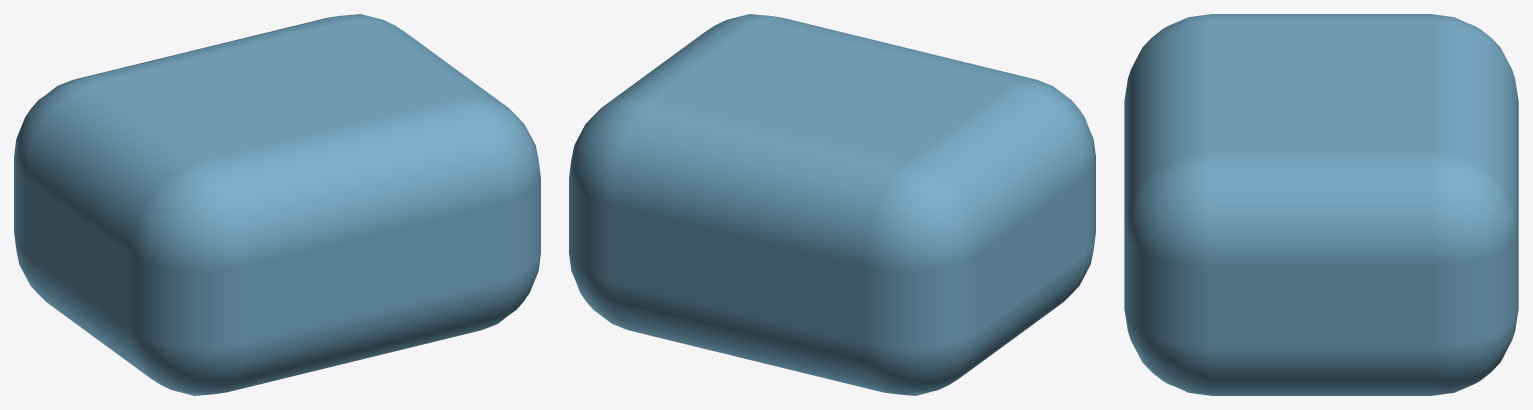
Rendered from sky_plane.glb.
3 renders of one model, left to right at view 1: azimuth 30°, elevation 25°; view 2: azimuth 150°, elevation 25°; view 3: azimuth 270°, elevation 25°, orthographic. The views are drawn at different scales.
Visible parts, largest first — view 1: sky_plane_glass; view 2: sky_plane_glass; view 3: sky_plane_glass.
Boxes of the visible parts, <box> form: sky_plane_glass: <box>14,14,540,395</box>; sky_plane_glass: <box>569,14,1095,395</box>; sky_plane_glass: <box>1124,14,1518,395</box>.
Size of what is drawn, in the model's own units: 0.22 by 0.12 by 0.18.
